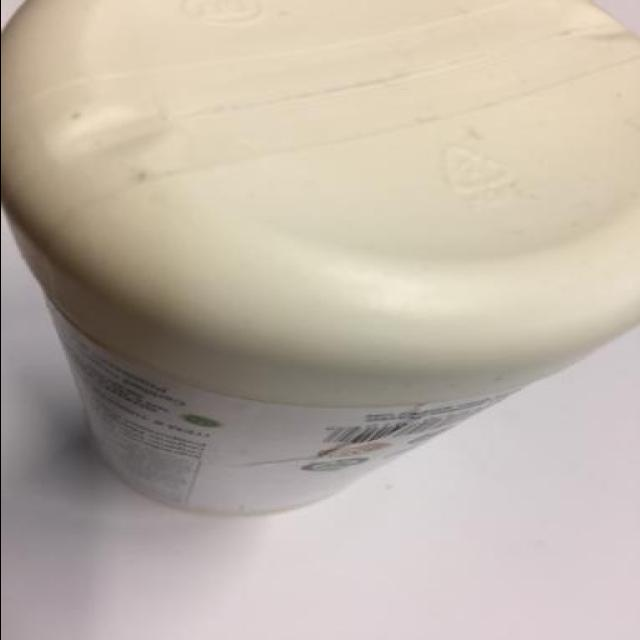HDPEM: (3, 1, 635, 524)
